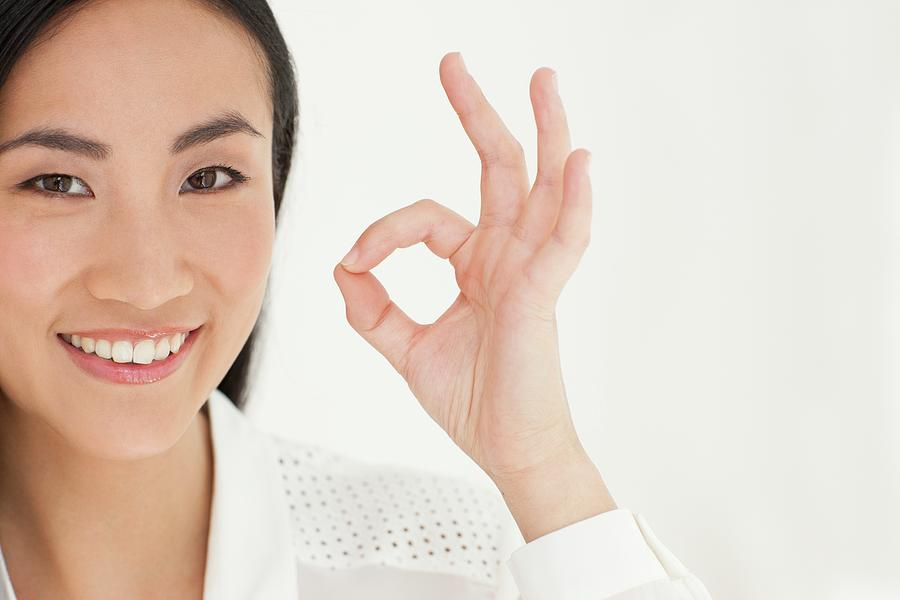oksign: (334, 54, 589, 454)
